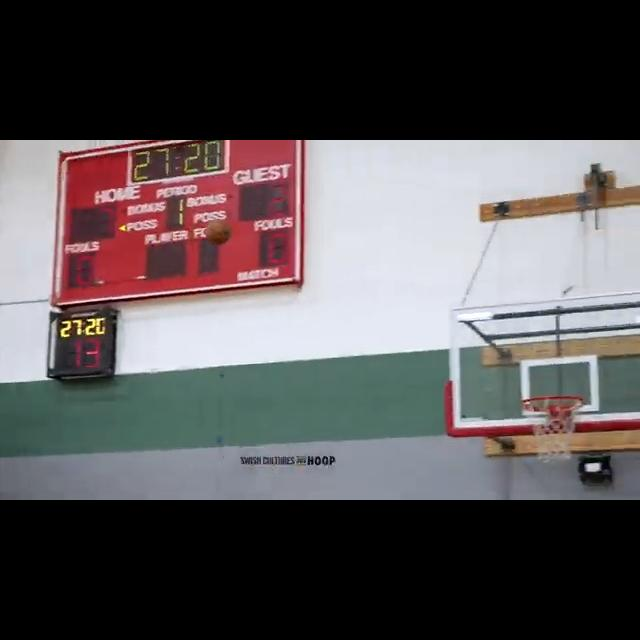basketball: (204, 217, 232, 246)
hoop: (522, 395, 585, 463)
